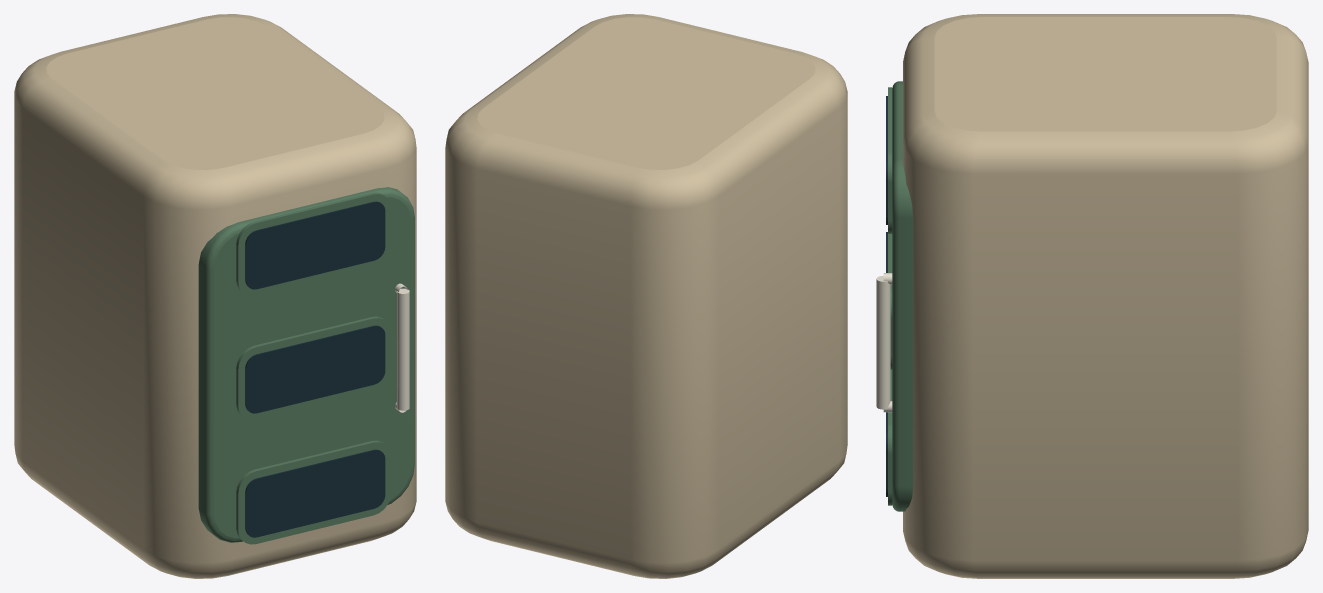
The picture shows the model from 3 angles, left to right: view 1: azimuth 30°, elevation 25°; view 2: azimuth 150°, elevation 25°; view 3: azimuth 270°, elevation 25°; orthographic projection. The views are drawn at different scales.
Parts seen in each view (by area): view 1: t200_o2; view 2: t200_o2; view 3: t200_o2.
Boxes of the visible parts, <box> form: t200_o2: <box>14,14,416,578</box>; t200_o2: <box>445,14,847,578</box>; t200_o2: <box>876,14,1308,578</box>.
Bounding box in the file's own units: 1.9 × 2.78 × 2.45.
